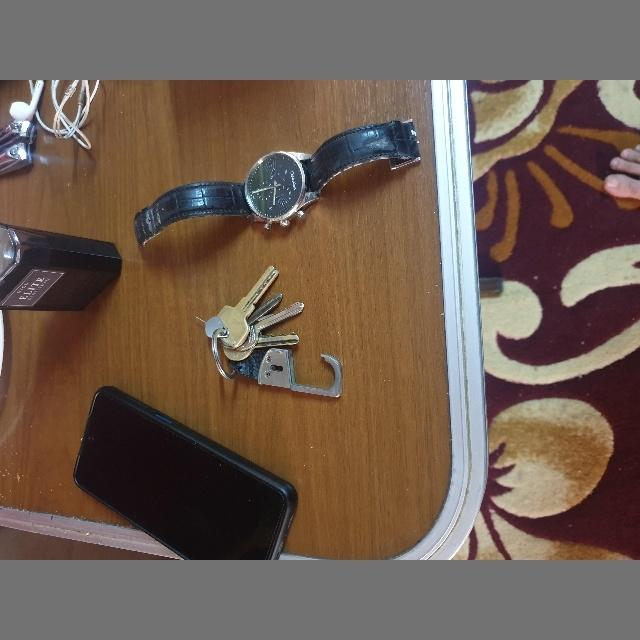Keys: (205, 266, 367, 398)
